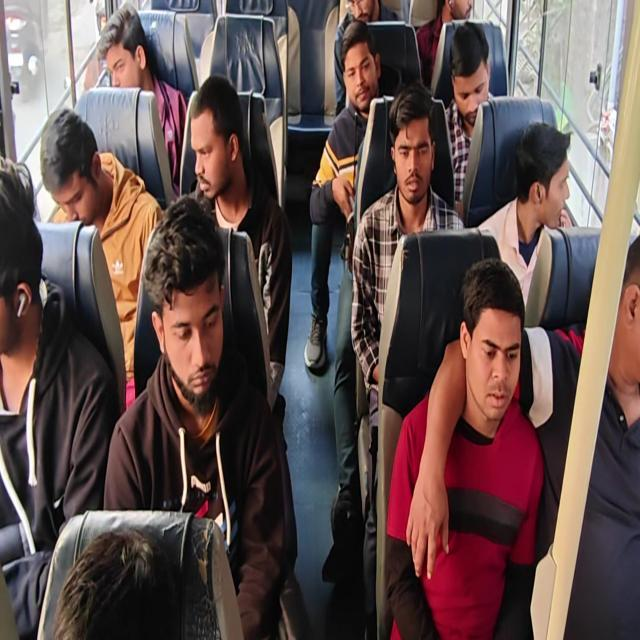person: (1, 1, 638, 638), (413, 231, 640, 639), (102, 194, 288, 638), (350, 81, 465, 637), (384, 256, 544, 638), (0, 156, 120, 638), (39, 107, 163, 410), (185, 74, 293, 417), (304, 19, 386, 373), (90, 2, 188, 196), (477, 120, 573, 312), (52, 526, 182, 639), (440, 20, 494, 212), (332, 0, 403, 116), (415, 0, 474, 90)
